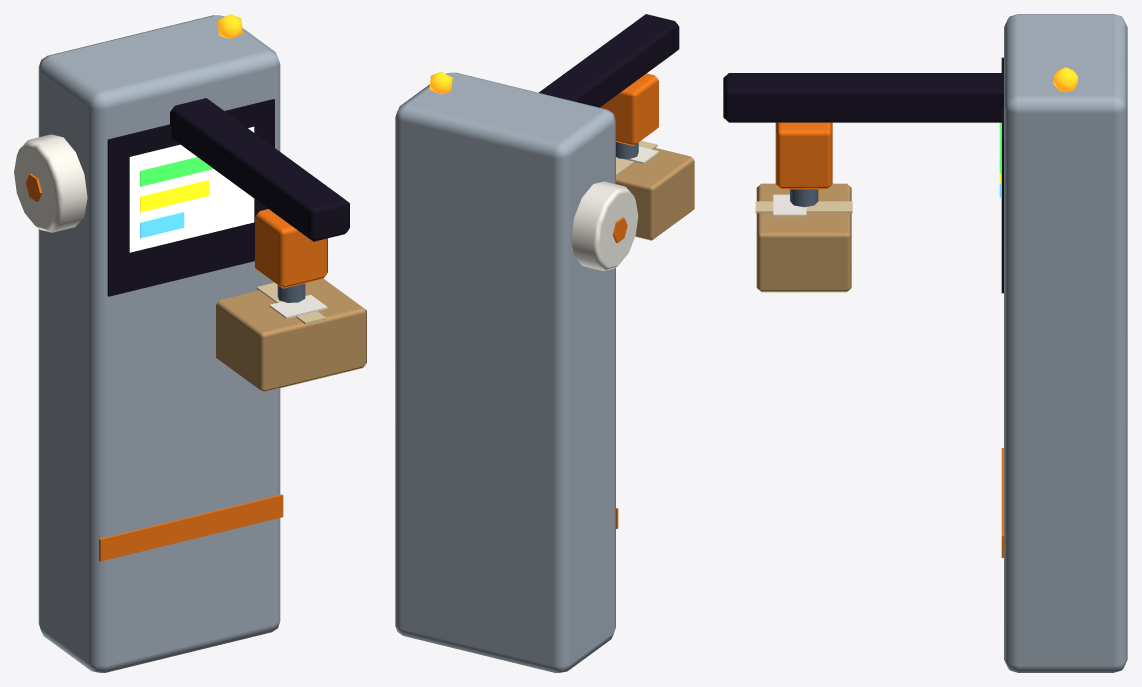
Rendered from station_processing_ausstattung_2_3.glb.
The picture shows the model from 3 angles, left to right: view 1: azimuth 30°, elevation 25°; view 2: azimuth 150°, elevation 25°; view 3: azimuth 270°, elevation 25°; orthographic projection. The views are drawn at different scales.
Parts seen in each view (by area): view 1: station_processing_ausstattung_2_3; view 2: station_processing_ausstattung_2_3; view 3: station_processing_ausstattung_2_3.
Part boxes in pixels (x1,y1,x2,y2): station_processing_ausstattung_2_3: (14,14,366,672); station_processing_ausstattung_2_3: (395,14,694,672); station_processing_ausstattung_2_3: (723,14,1127,672).
Size of the model in its own units: 0.535 by 1.39 by 0.85.
